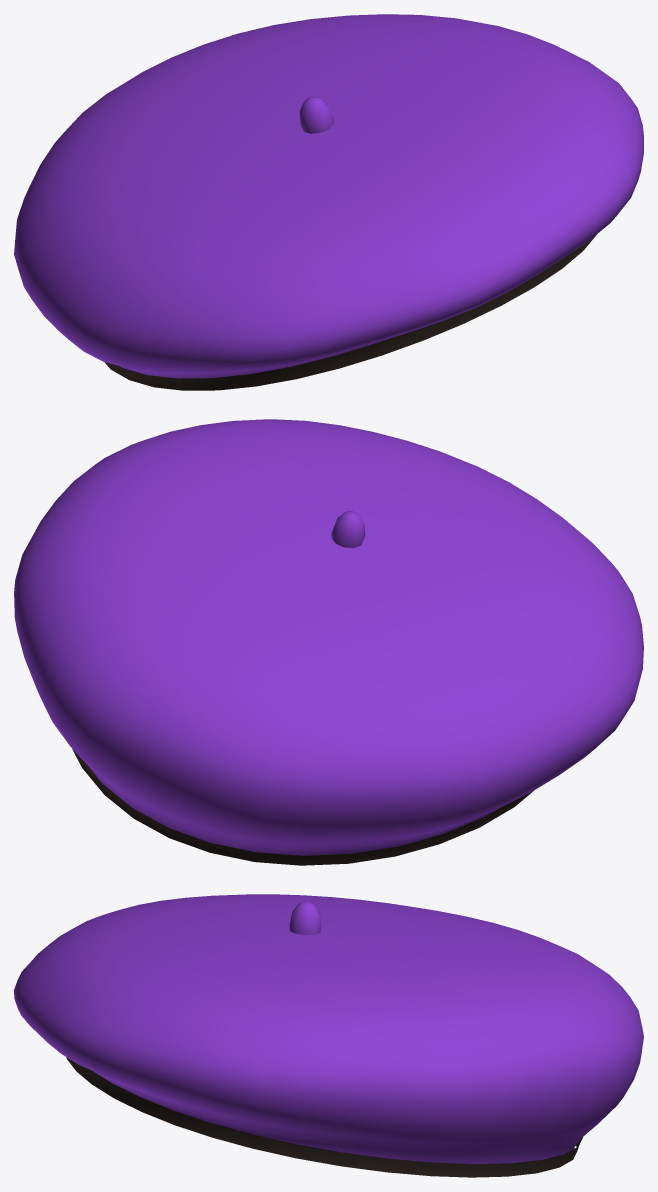
File: hat_beret.glb
3 renders of one model, top to bottom at view 1: azimuth 30°, elevation 25°; view 2: azimuth 150°, elevation 25°; view 3: azimuth 270°, elevation 25°, orthographic. The views are drawn at different scales.
Parts seen in each view (by area): view 1: HatBeret; view 2: HatBeret; view 3: HatBeret.
Boxes of the visible parts, x1,y1,x2,y2 form: HatBeret: (14, 14, 643, 390); HatBeret: (14, 419, 643, 865); HatBeret: (14, 894, 643, 1177).
Size of the model in its own units: 0.6131 by 0.2745 by 0.6407.
